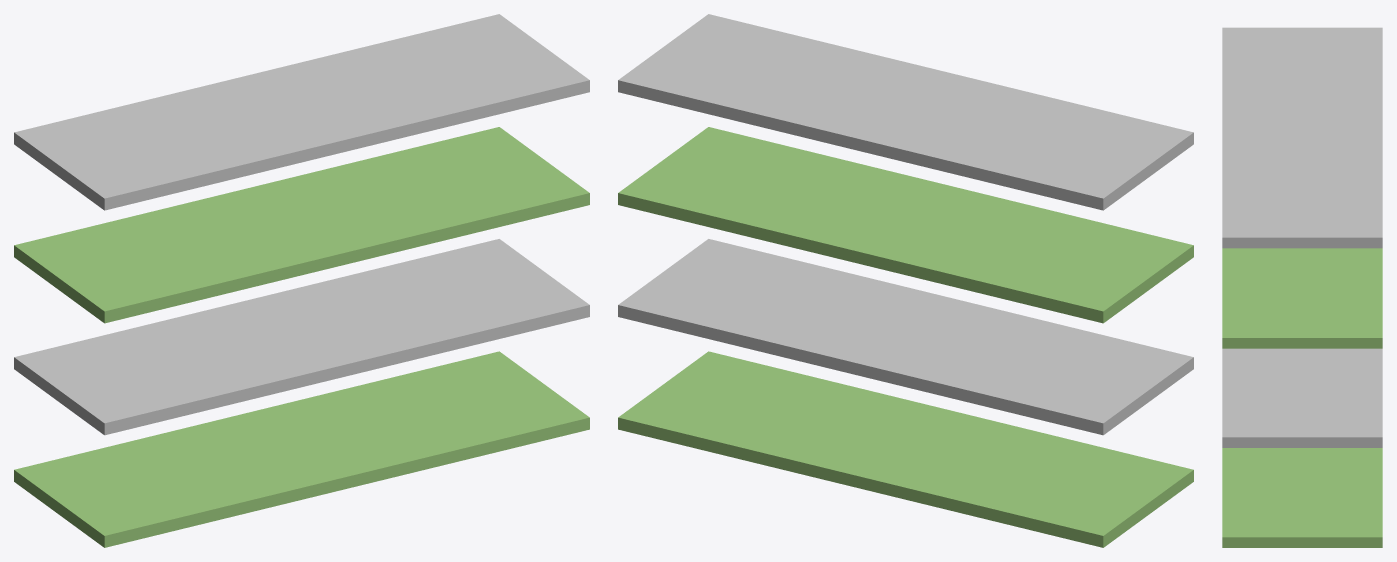
File: BigBox.dae
3 renders of one model, left to right at view 1: azimuth 30°, elevation 25°; view 2: azimuth 150°, elevation 25°; view 3: azimuth 270°, elevation 25°, orthographic. The views are drawn at different scales.
Parts seen in each view (by area): view 1: tablon_estante_superior_001, tablon_estante_superior_001_001, tablon_estante_superior_001_002; view 2: tablon_estante_superior_001, tablon_estante_superior_001_001, tablon_estante_superior_001_002; view 3: tablon_estante_superior_001, tablon_estante_superior_001_001, tablon_estante_superior_001_002.
Part boxes in pixels (x1,y1,x2,y2): tablon_estante_superior_001: [14, 14, 589, 435]; tablon_estante_superior_001_001: [14, 127, 589, 323]; tablon_estante_superior_001_002: [14, 351, 589, 547]; tablon_estante_superior_001: [618, 14, 1193, 435]; tablon_estante_superior_001_001: [618, 127, 1193, 323]; tablon_estante_superior_001_002: [618, 351, 1193, 547]; tablon_estante_superior_001: [1222, 27, 1382, 447]; tablon_estante_superior_001_001: [1222, 248, 1382, 348]; tablon_estante_superior_001_002: [1222, 448, 1382, 547].
Size of the model in its own units: 2.97 by 0.9573 by 2.27.
